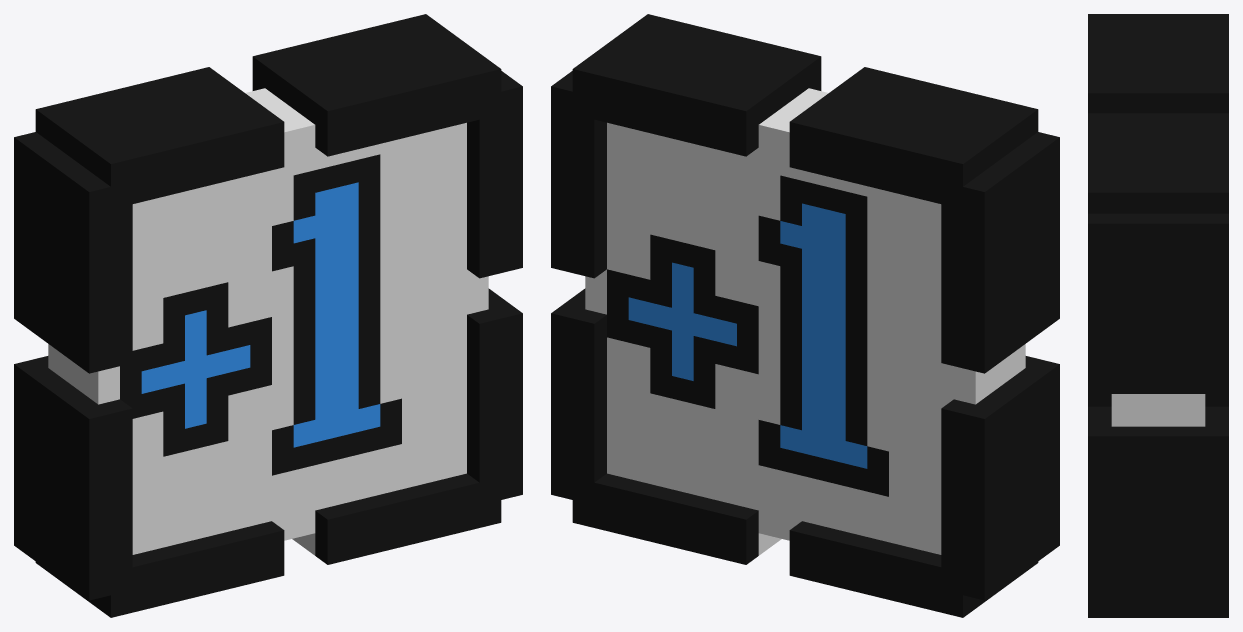
The model's file is item1.obj.
The picture shows the model from 3 angles, left to right: view 1: azimuth 30°, elevation 25°; view 2: azimuth 150°, elevation 25°; view 3: azimuth 270°, elevation 25°; orthographic projection. The views are drawn at different scales.
Bounding box in the file's own units: 20 × 20 × 6.
Materials: 1 (1 with a texture image).
